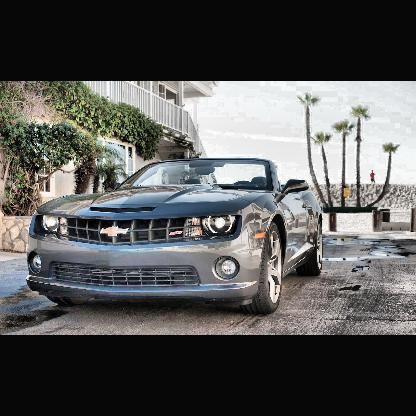Chevrolet Camaro Convertible 2012: (27, 159, 323, 313)
